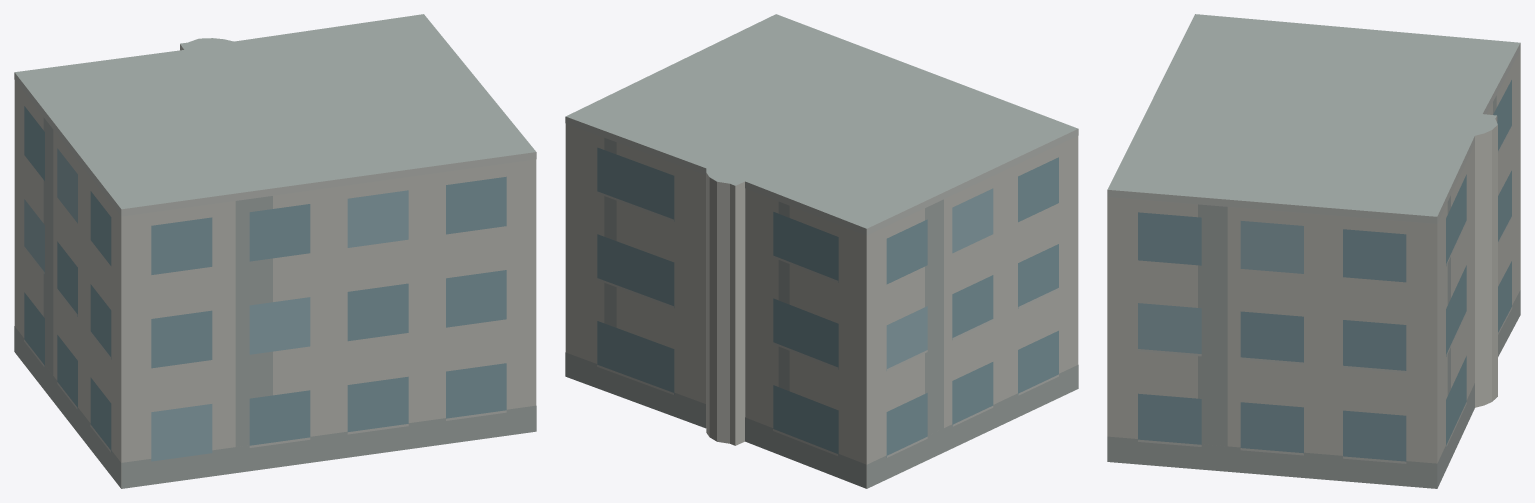
Rendered from residential-b2b2b511-c80a-43e9-bbbc-00e6764a2092.glb.
3 views of the same model, side by side, from view 1: azimuth 30°, elevation 25°; view 2: azimuth 150°, elevation 25°; view 3: azimuth 270°, elevation 25° (orthographic). The views are drawn at different scales.
Parts seen in each view (by area): view 1: residential-b2b2b511-c80a-43e9-bbbc-00e6764a2092.tmp; view 2: residential-b2b2b511-c80a-43e9-bbbc-00e6764a2092.tmp; view 3: residential-b2b2b511-c80a-43e9-bbbc-00e6764a2092.tmp.
Part boxes in pixels (box(x1,y1,x2,y2)): residential-b2b2b511-c80a-43e9-bbbc-00e6764a2092.tmp: box(14, 14, 536, 488); residential-b2b2b511-c80a-43e9-bbbc-00e6764a2092.tmp: box(565, 14, 1078, 488); residential-b2b2b511-c80a-43e9-bbbc-00e6764a2092.tmp: box(1107, 14, 1520, 488).
Bounding box in the file's own units: 14.63 × 9.15 × 12.6.
